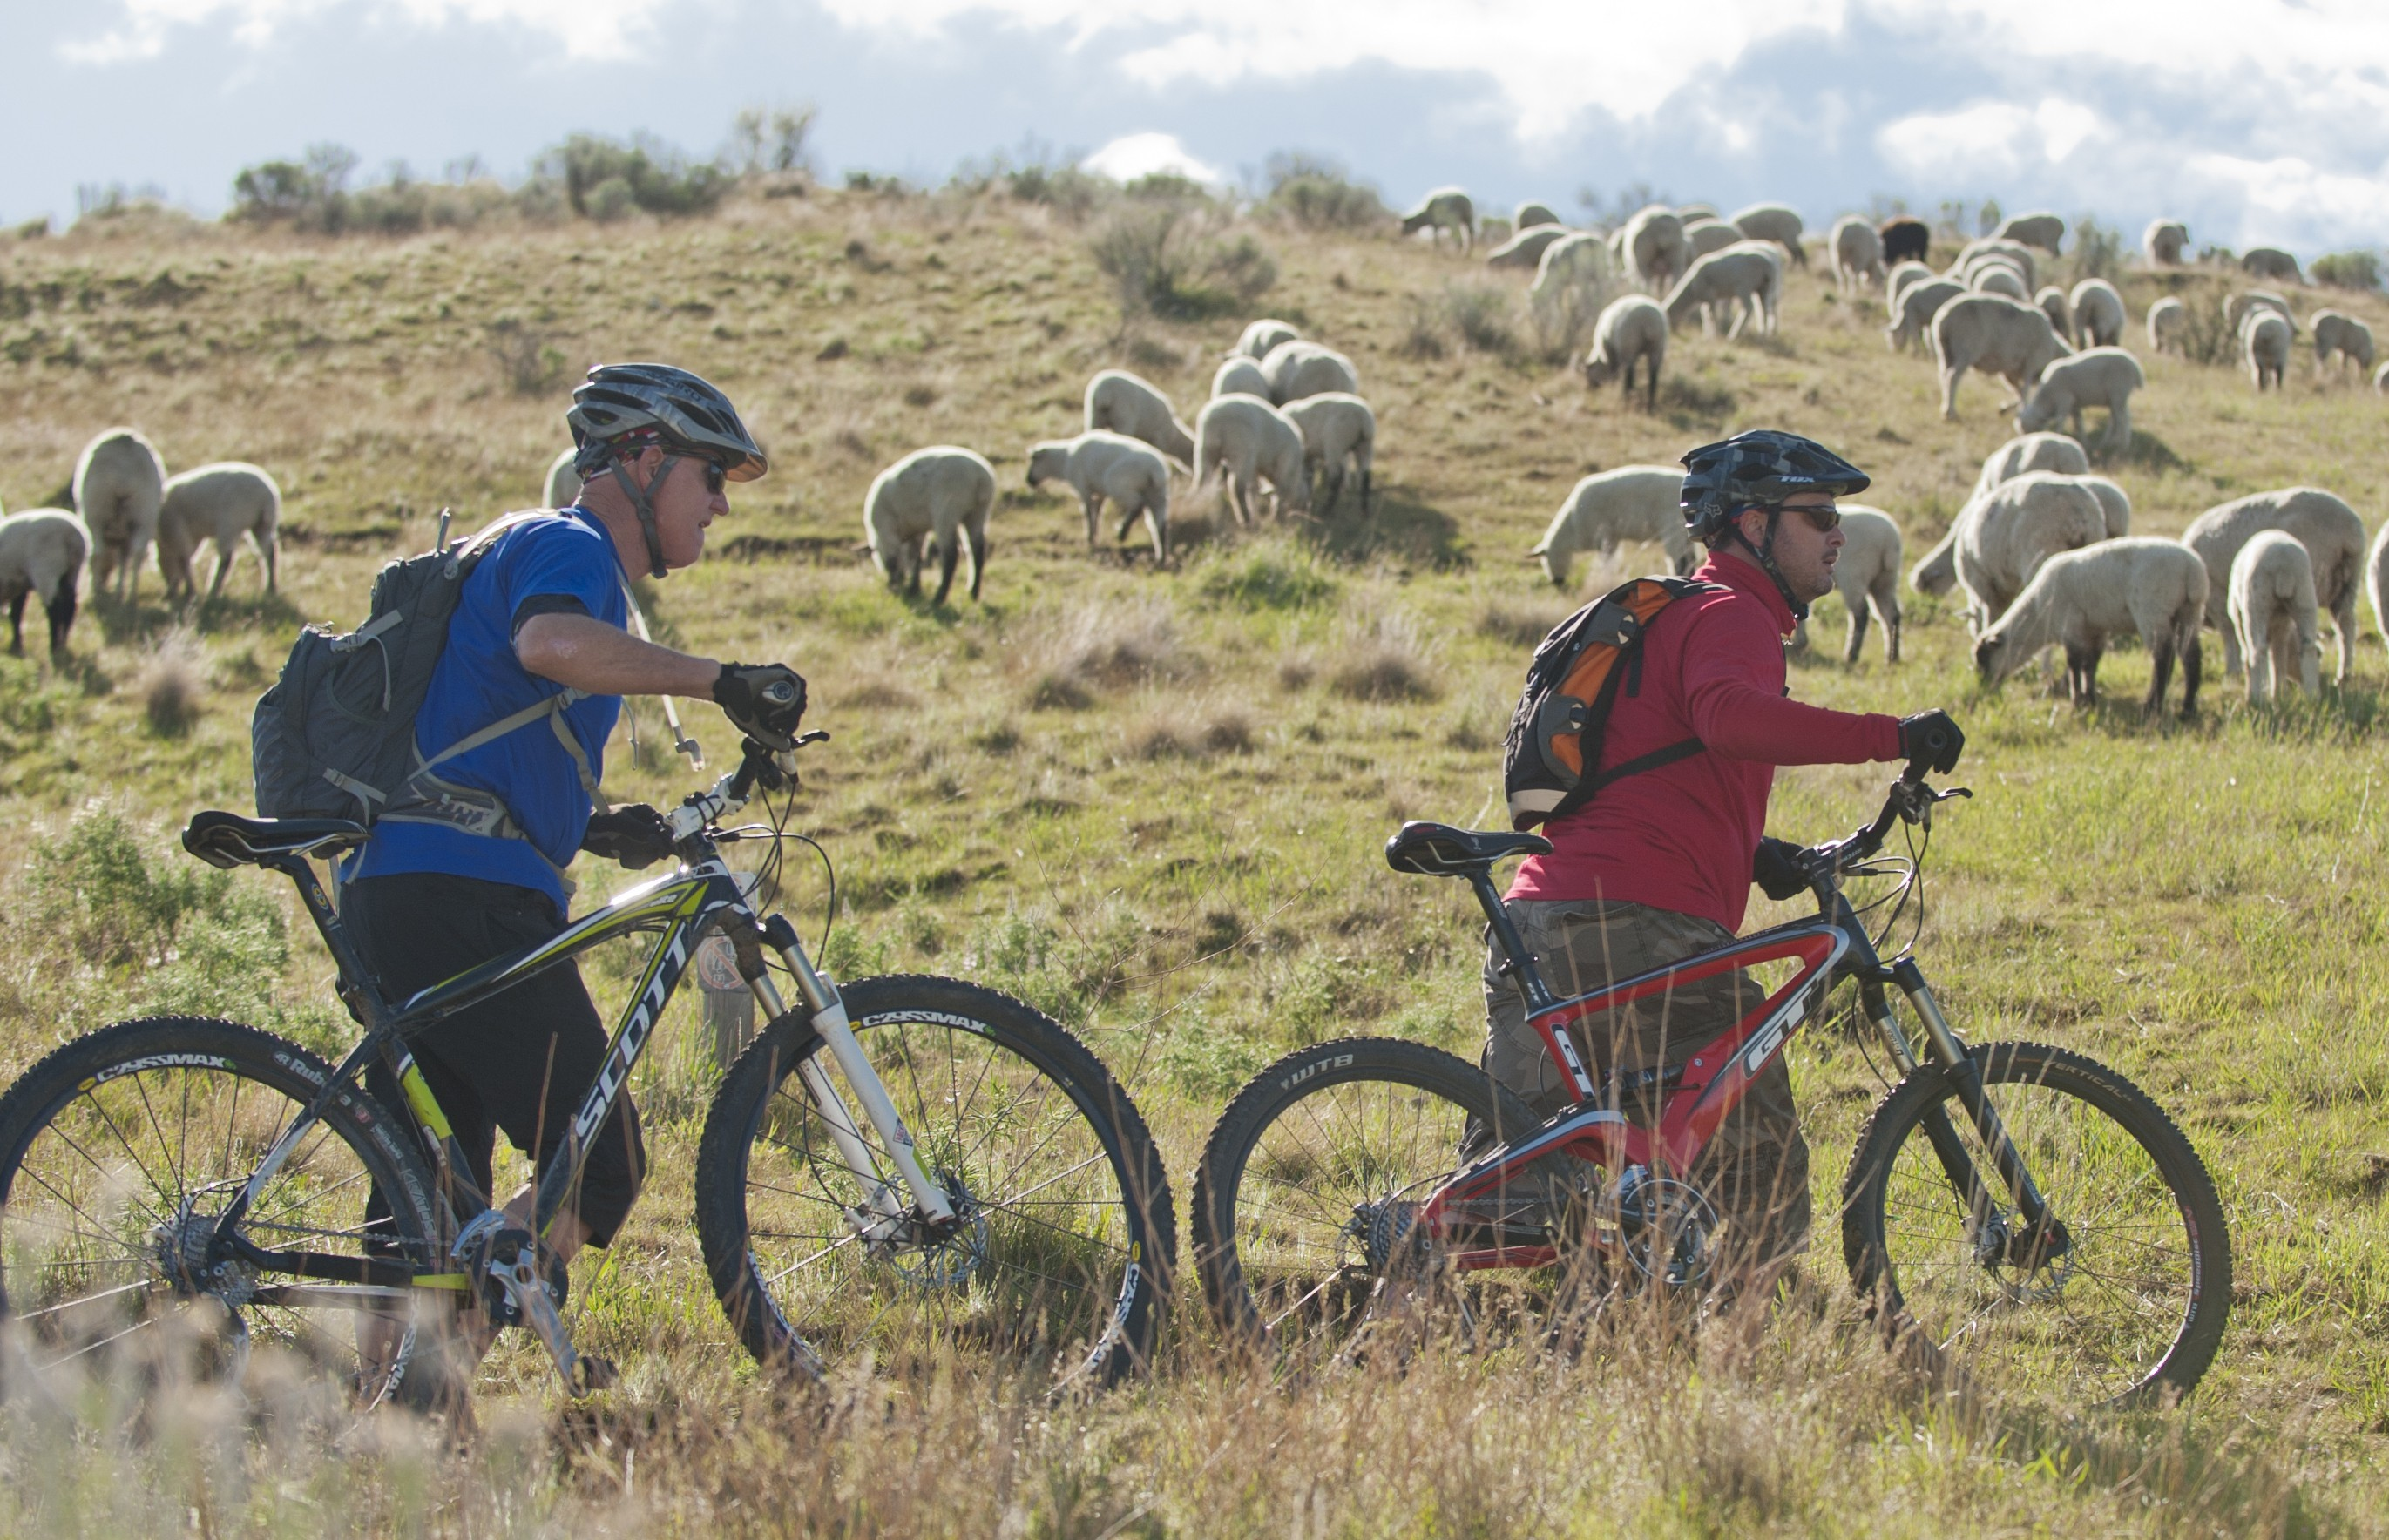sheep: (1976, 538, 2206, 726), (2159, 484, 2372, 672), (1917, 423, 2093, 621), (1948, 465, 2110, 672), (145, 463, 287, 621), (853, 445, 989, 607), (1926, 291, 2091, 414), (1182, 385, 1320, 532), (2225, 526, 2333, 712), (1024, 426, 1174, 557), (1534, 463, 1682, 593), (1080, 360, 1208, 508), (1248, 329, 1355, 494), (1261, 385, 1384, 519), (2020, 345, 2150, 470), (78, 426, 165, 606), (2, 498, 87, 660), (1658, 245, 1787, 341), (1588, 289, 1672, 407), (1888, 278, 1995, 360), (1527, 233, 1607, 341), (1719, 205, 1816, 278), (1663, 219, 1755, 296), (1612, 204, 1682, 303), (2307, 308, 2382, 392), (1823, 212, 1891, 299), (2062, 273, 2130, 360), (1396, 191, 1477, 261), (1982, 211, 2067, 263), (1489, 224, 1574, 273), (2150, 296, 2204, 360), (2253, 311, 2298, 383), (2145, 219, 2197, 268)
